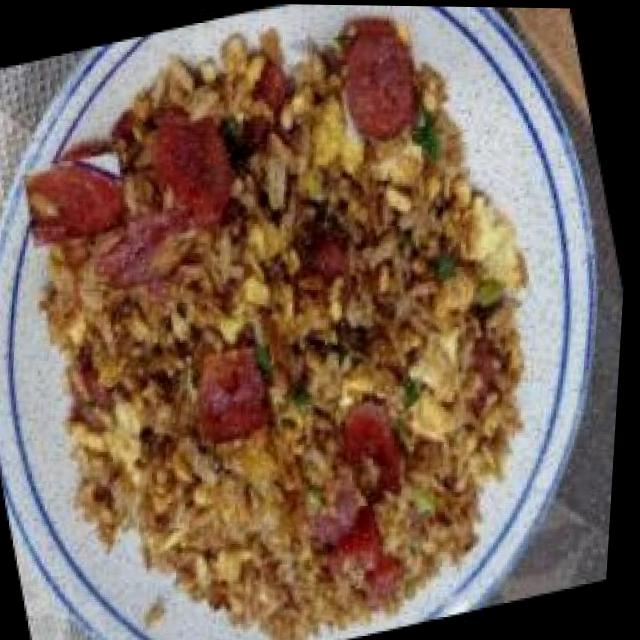chinese_sausage: (144, 100, 253, 244), (323, 19, 434, 145), (91, 191, 208, 306), (21, 143, 136, 255), (184, 340, 294, 452), (336, 394, 417, 510)
